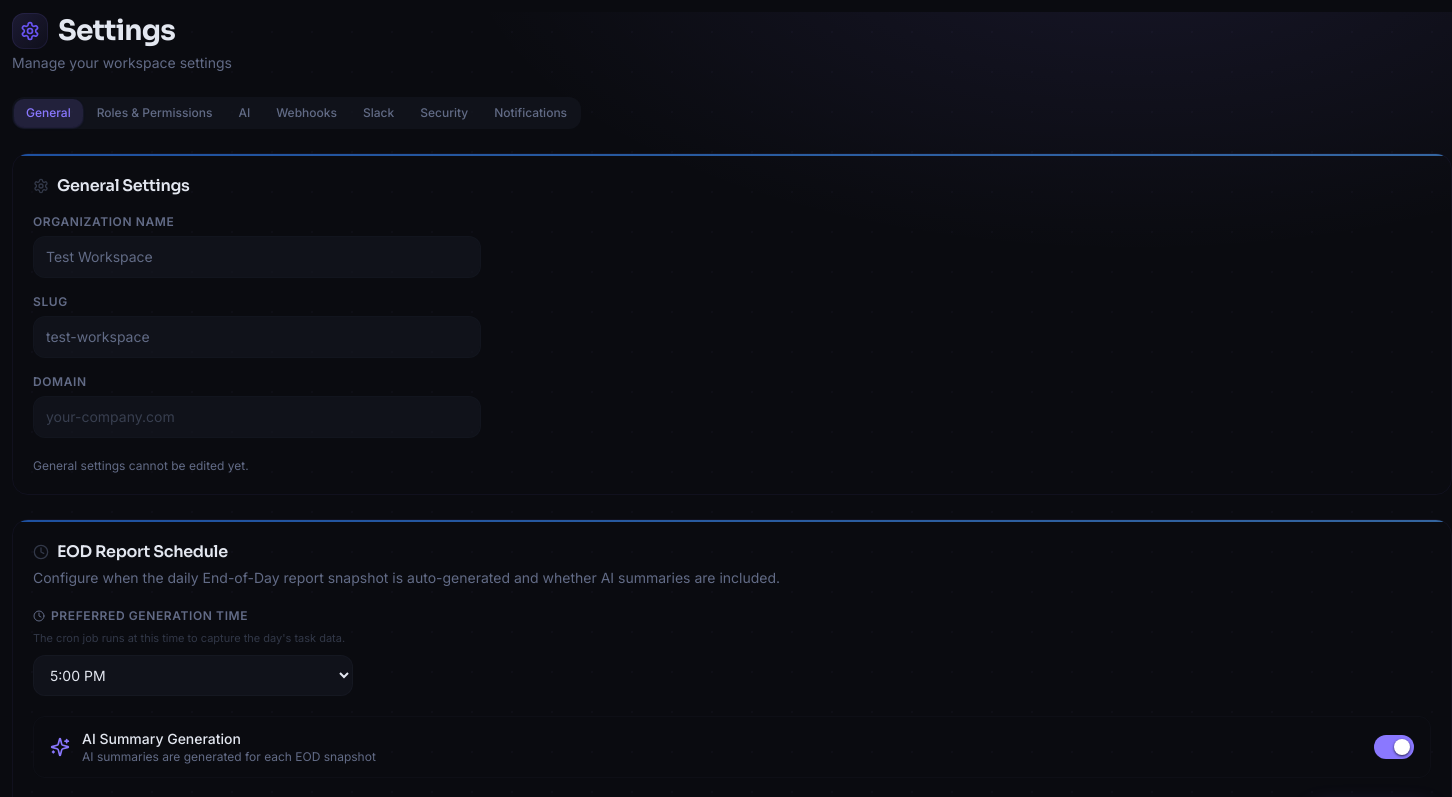
Scenario: Preview chime button › is disabled when isNotificationSoundSupported returns false
Expected: the text "Settings" is shown, [58,12,175,49]
Click the tab "Notifications". click: coordinates (531, 113)
box: [482,99,579,127]
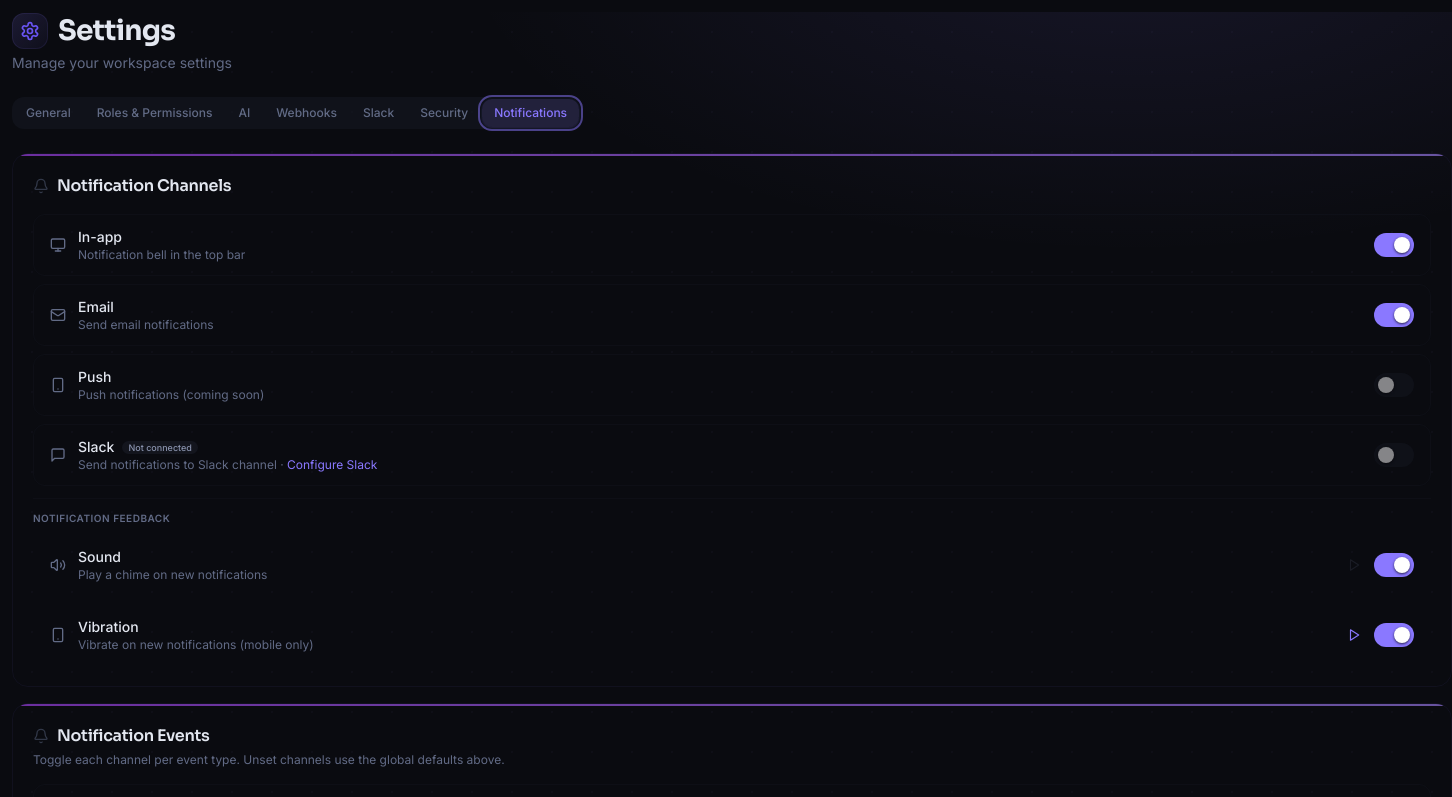
Expected: the heading "Notification Channels" is shown, [33,175,231,196]
